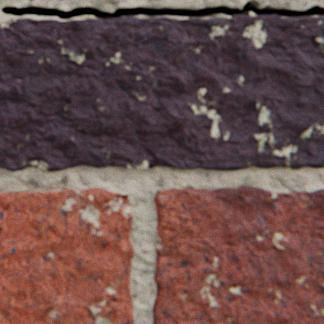brick: (0, 15, 323, 171), (152, 185, 323, 323), (0, 187, 133, 323)
crack: (0, 0, 323, 20)
